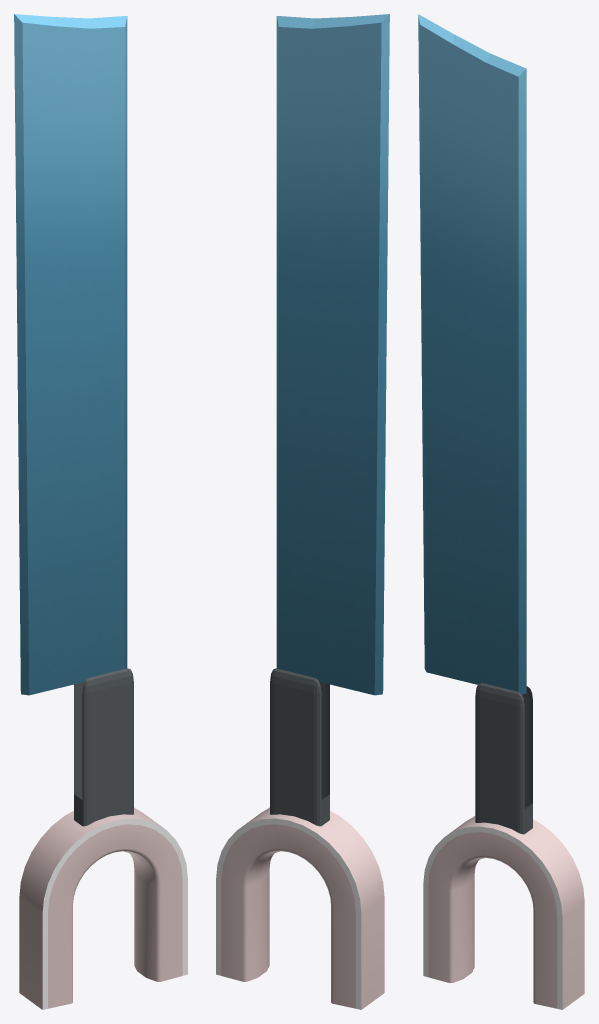
Rendered from knife_obstacle.fbx.
3 views of the same model, side by side, from view 1: azimuth 30°, elevation 25°; view 2: azimuth 150°, elevation 25°; view 3: azimuth 330°, elevation 25° (orthographic). The views are drawn at different scales.
Parts seen in each view (by area): view 1: knife, knife_base; view 2: knife, knife_base; view 3: knife, knife_base.
Part boxes in pixels (left/top/right/bottom): knife: left=14, top=14, right=133, bottom=826; knife_base: left=19, top=807, right=187, bottom=1009; knife: left=270, top=14, right=389, bottom=826; knife_base: left=216, top=807, right=384, bottom=1009; knife: left=418, top=14, right=532, bottom=834; knife_base: left=423, top=816, right=584, bottom=1009.
Bounding box in the file's own units: 0.8872 × 5.18 × 0.2338.
Materials: 1 (1 with a texture image).
